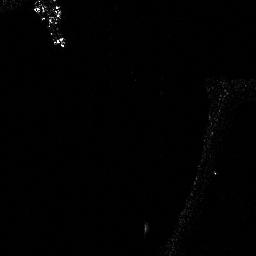ship: (33, 1, 66, 49)
